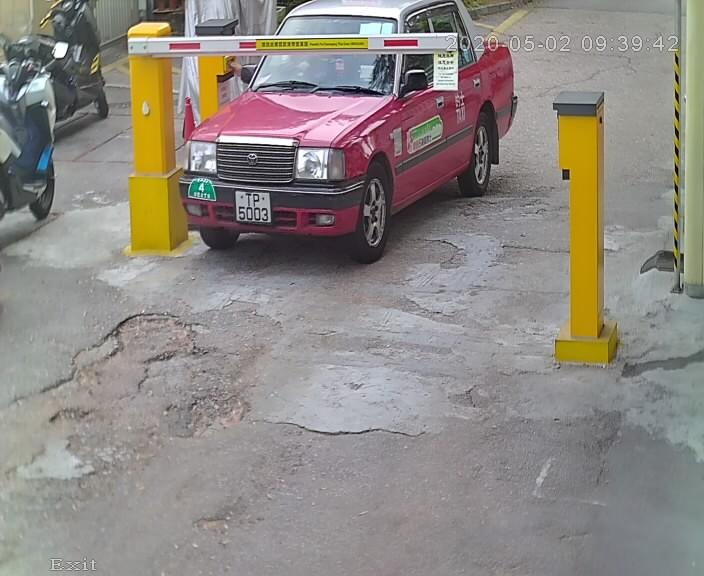Car: (175, 4, 535, 280)
License Plate: (228, 185, 277, 231)
